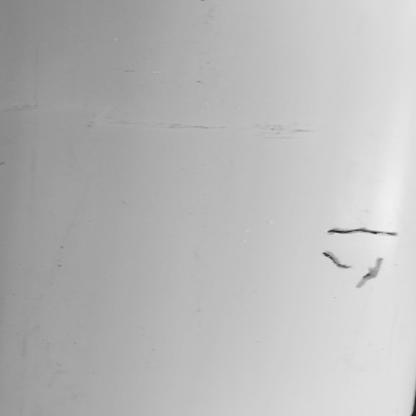fengxi: (356, 257, 385, 287), (329, 225, 397, 237), (321, 251, 349, 269)
